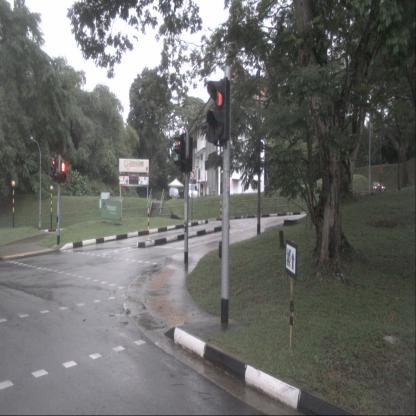vehicle-car: (168, 186, 180, 202), (187, 183, 198, 199), (372, 181, 384, 194)
